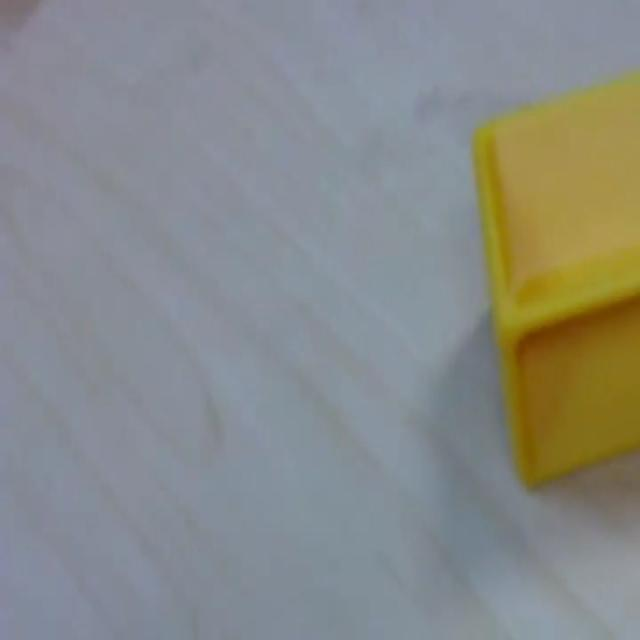yellow_block: (471, 67, 638, 489)
